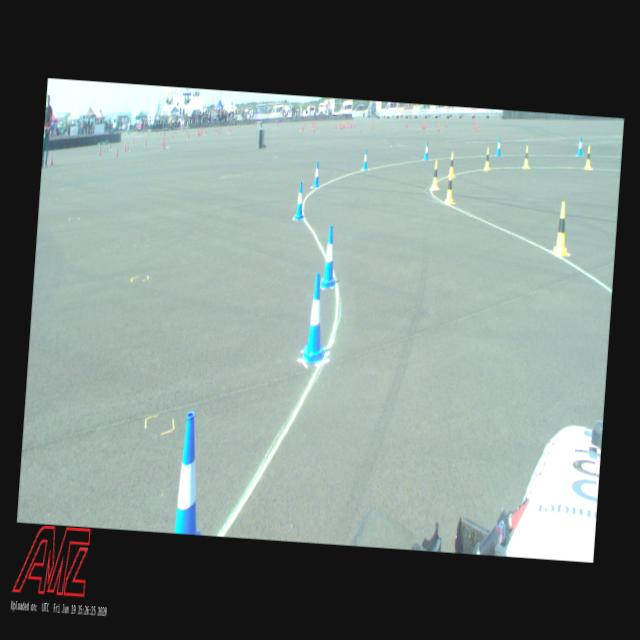blue_cone: (174, 410, 209, 534), (301, 272, 329, 364), (320, 225, 339, 289), (294, 182, 306, 220), (312, 160, 320, 188), (362, 148, 368, 170), (577, 136, 583, 156), (423, 141, 429, 160), (496, 138, 502, 156)
yellow_cone: (552, 200, 570, 256), (444, 172, 454, 204), (430, 160, 440, 190), (584, 145, 592, 169), (522, 146, 530, 168), (448, 152, 454, 178), (484, 148, 491, 170)
